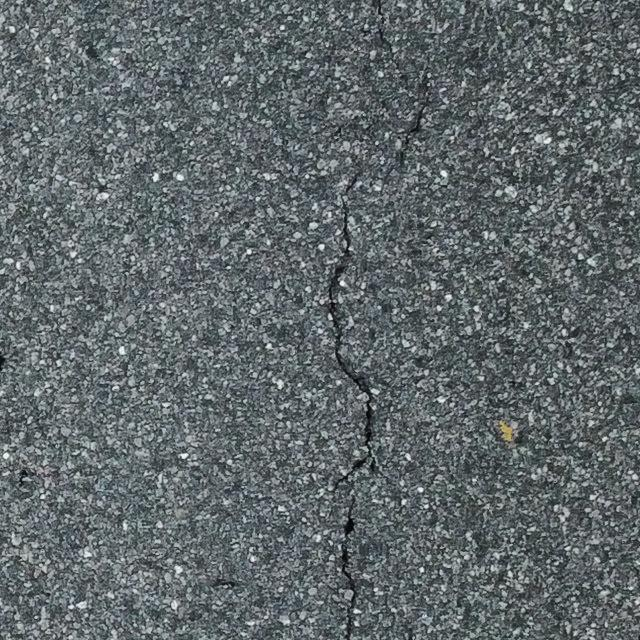LongitudinalCrack: (327, 174, 376, 640)
